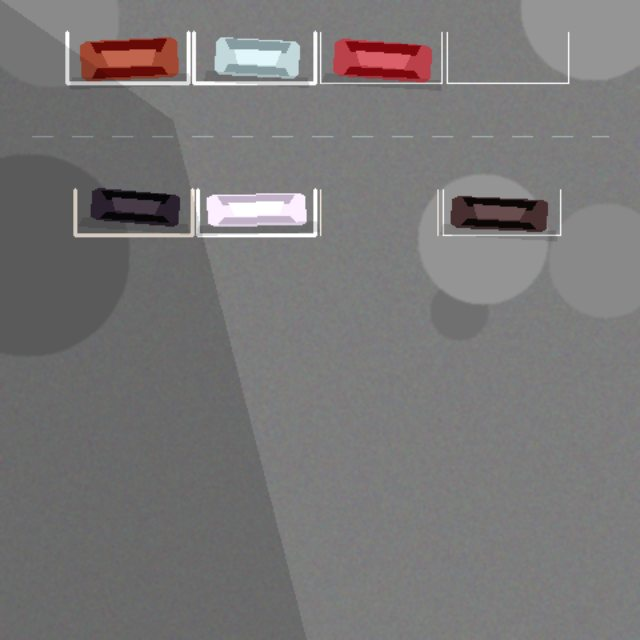space-empty: (447, 32, 568, 83), (320, 189, 437, 235)
space-occupied: (193, 32, 315, 83), (67, 32, 188, 83), (320, 32, 441, 83), (197, 189, 315, 235), (75, 189, 192, 235), (443, 189, 560, 235)
